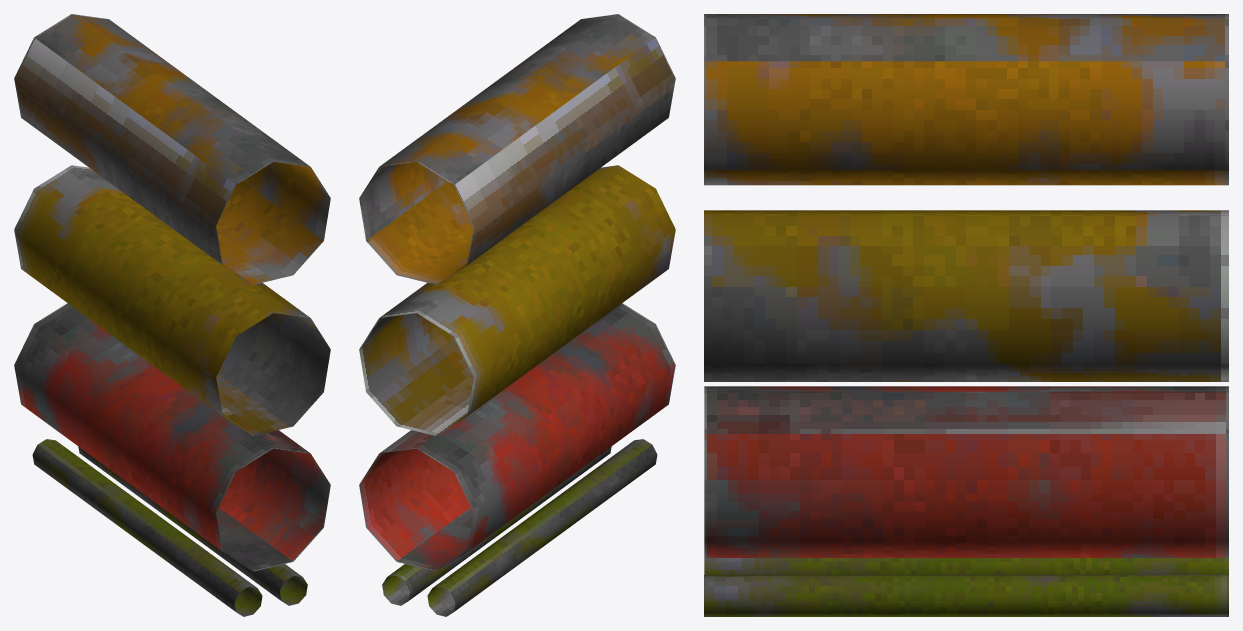
Rendered from straightPipe.glb.
The picture shows the model from 3 angles, left to right: view 1: azimuth 30°, elevation 25°; view 2: azimuth 150°, elevation 25°; view 3: azimuth 270°, elevation 25°; orthographic projection. The views are drawn at different scales.
Parts seen in each view (by area): view 1: pipes; view 2: pipes; view 3: pipes.
Part boxes in pixels (x1,y1,x2,y2): pipes: (14,14,330,616); pipes: (359,14,675,616); pipes: (704,14,1228,616).
Bounding box in the file's own units: 0.6751 × 2.52 × 2.06.
Materials: 1 (1 with a texture image).
